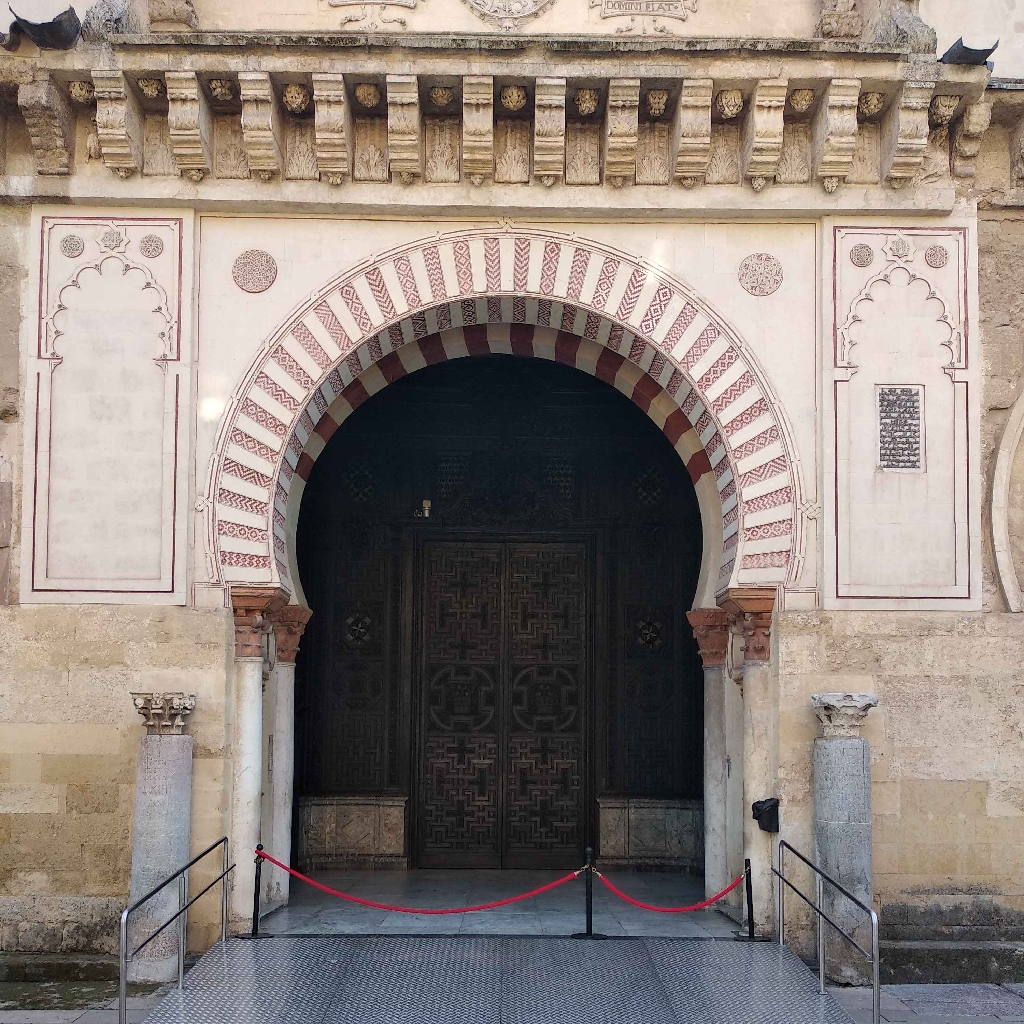arco-herradura: (234, 272, 769, 678)
